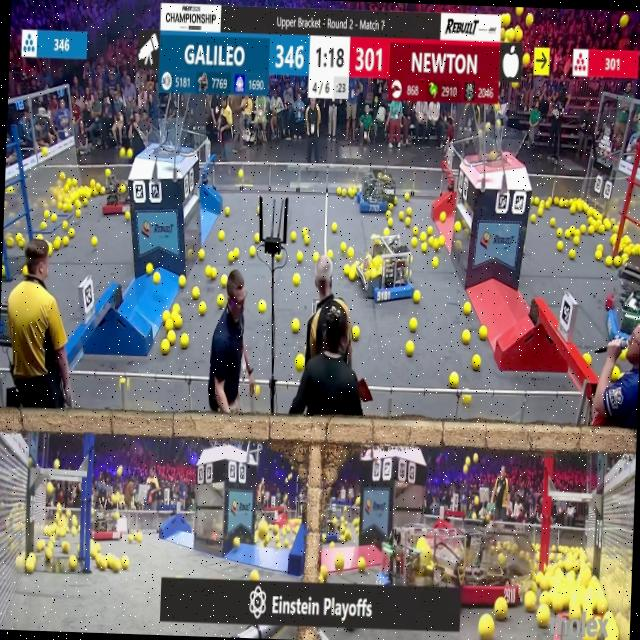ball_airborne: (502, 12, 511, 26), (505, 29, 514, 43), (514, 28, 522, 42), (620, 14, 627, 27), (528, 12, 534, 26), (523, 52, 529, 65), (515, 7, 523, 15), (496, 118, 502, 126), (475, 496, 480, 504)
ball_ground: (460, 328, 470, 344), (470, 354, 480, 370), (179, 334, 188, 349), (406, 342, 415, 356), (68, 555, 76, 569), (356, 558, 364, 572), (26, 558, 34, 572), (249, 568, 258, 580), (462, 393, 471, 405), (352, 324, 359, 339), (292, 273, 300, 286), (122, 556, 130, 568), (462, 303, 470, 315), (258, 301, 266, 313), (292, 321, 299, 334), (200, 302, 207, 315), (430, 256, 438, 267), (191, 286, 198, 298), (152, 272, 159, 284), (588, 224, 596, 234), (606, 255, 613, 266), (197, 248, 204, 259), (179, 275, 185, 287), (568, 248, 574, 260), (218, 230, 224, 242), (578, 224, 586, 233), (456, 220, 462, 232), (74, 199, 82, 208), (210, 267, 216, 279), (221, 274, 227, 286), (295, 250, 301, 261), (420, 233, 428, 241), (595, 251, 602, 260), (557, 242, 563, 252), (92, 236, 98, 246), (412, 238, 418, 248), (290, 232, 296, 242), (249, 246, 255, 256), (81, 198, 88, 206), (530, 214, 536, 223), (574, 235, 580, 244), (331, 221, 336, 231), (404, 216, 409, 226), (348, 247, 353, 257), (16, 240, 23, 247), (312, 252, 318, 260), (421, 244, 427, 252), (549, 217, 554, 226)
goal: (471, 125, 524, 167)
robot_blue: (352, 234, 418, 303), (358, 169, 397, 214)
robot_red: (453, 514, 540, 612), (100, 177, 130, 216), (89, 509, 120, 538)
